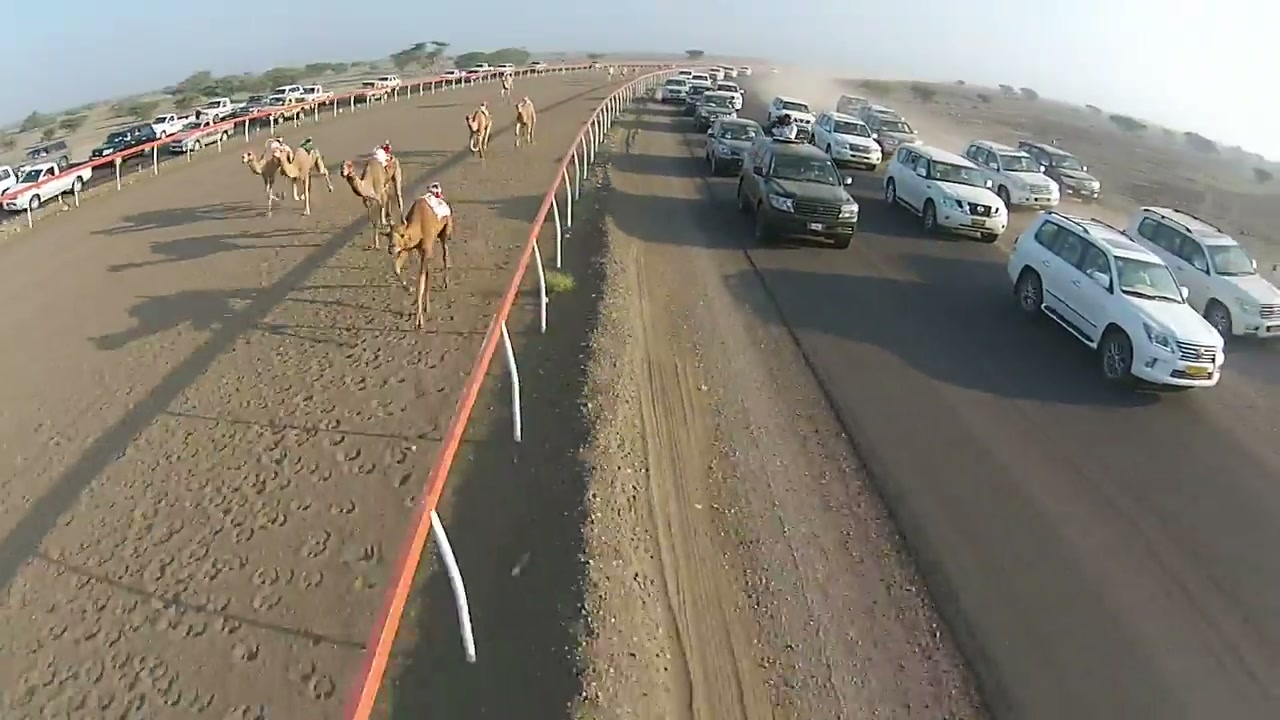animal_foot_print: (0, 250, 500, 719)
